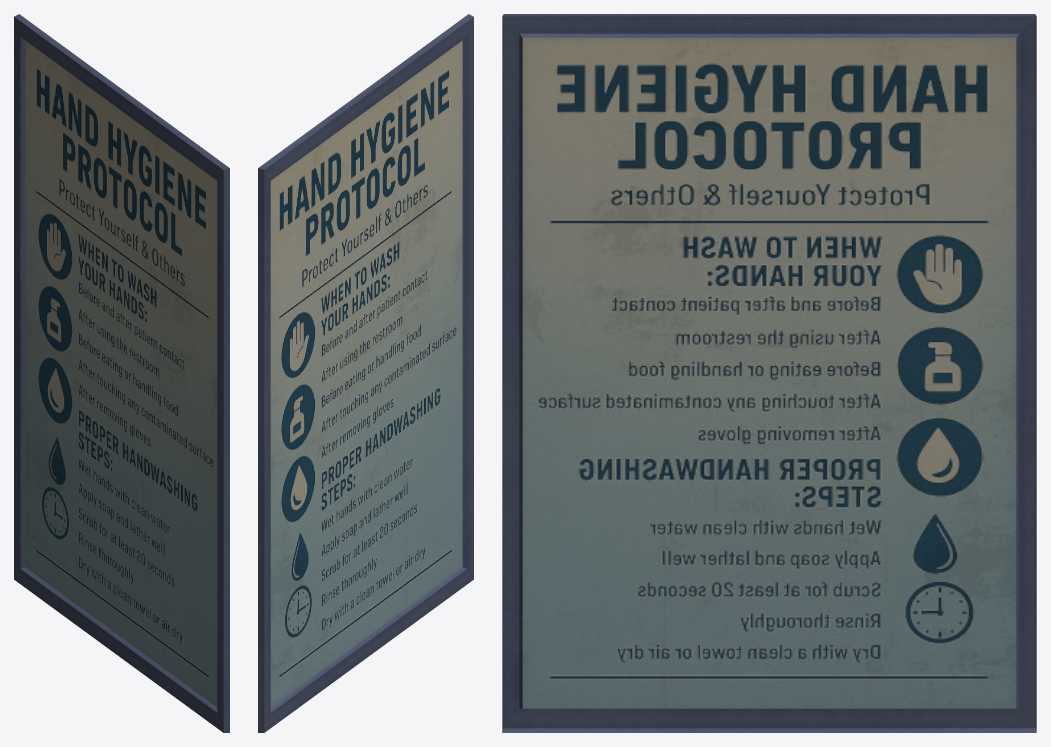
Rendered from HH_Medical_Posters_02.fbx.
3 renders of one model, left to right at view 1: azimuth 30°, elevation 25°; view 2: azimuth 150°, elevation 25°; view 3: azimuth 270°, elevation 25°, orthographic. The views are drawn at different scales.
Visible parts, largest first — view 1: HH_Medical_Posters_02; view 2: HH_Medical_Posters_02; view 3: HH_Medical_Posters_02.
Part boxes in pixels (<box>): HH_Medical_Posters_02: <box>14,14,229,732</box>; HH_Medical_Posters_02: <box>258,14,473,732</box>; HH_Medical_Posters_02: <box>502,14,1036,732</box>.
Bounding box in the file's own units: 1.83 × 171 × 115.
